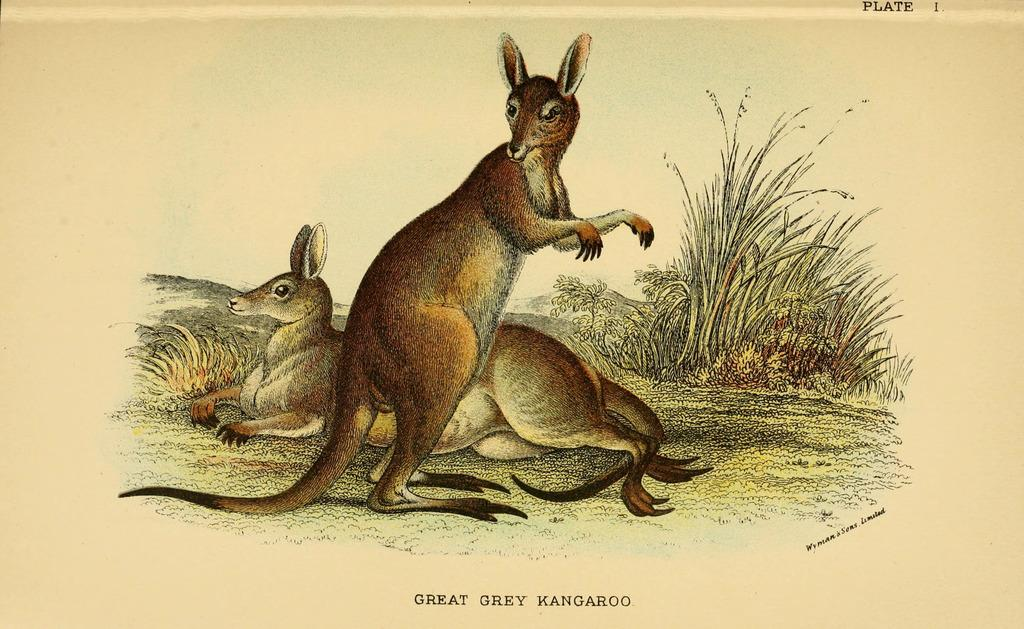kangaroo: (120, 36, 654, 523), (184, 221, 716, 522)
